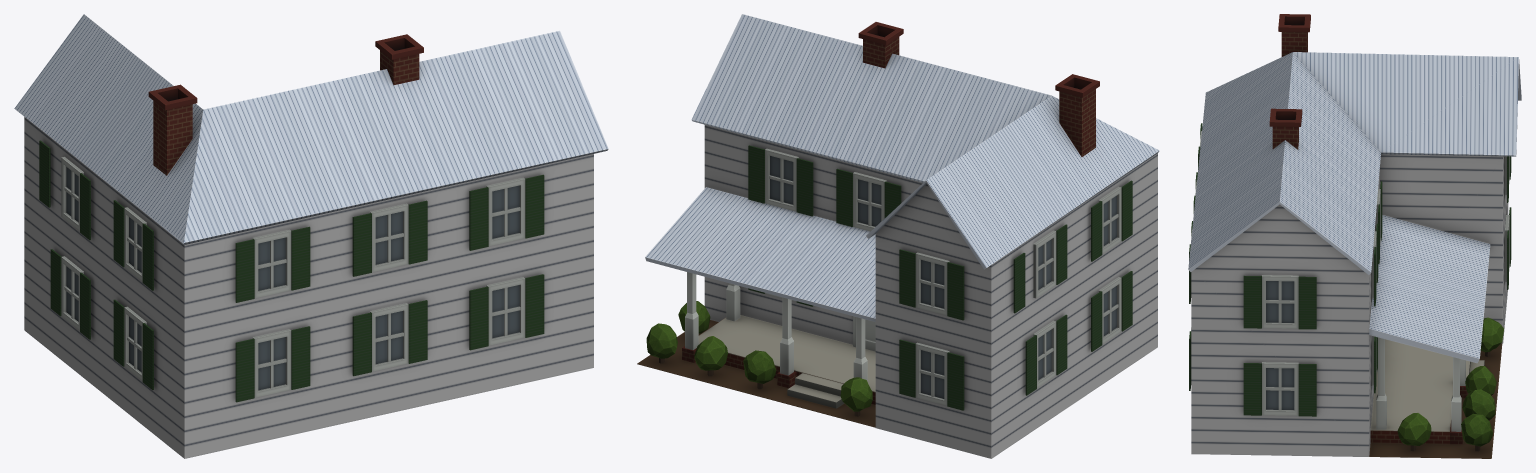
Rendered from farmhouse_mesh_lev3.glb.
3 renders of one model, left to right at view 1: azimuth 30°, elevation 25°; view 2: azimuth 150°, elevation 25°; view 3: azimuth 270°, elevation 25°, orthographic. The views are drawn at different scales.
Parts seen in each view (by area): view 1: farmhouse_mesh_lev3; view 2: farmhouse_mesh_lev3; view 3: farmhouse_mesh_lev3.
Part boxes in pixels (box(x1,y1,x2,y2)): farmhouse_mesh_lev3: box(14, 14, 608, 458); farmhouse_mesh_lev3: box(637, 14, 1159, 458); farmhouse_mesh_lev3: box(1188, 14, 1521, 458).
Size of the model in its own units: 13.25 by 9.53 by 10.34.
1 material, 1 textured.
